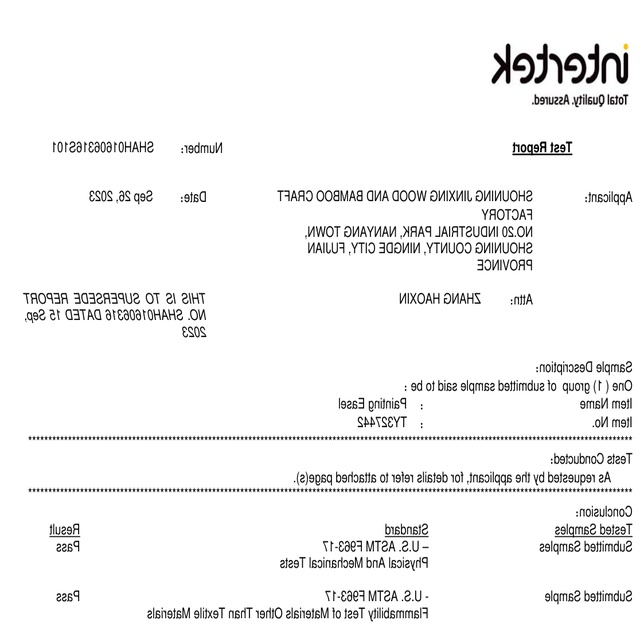intertek: (486, 37, 634, 87)
